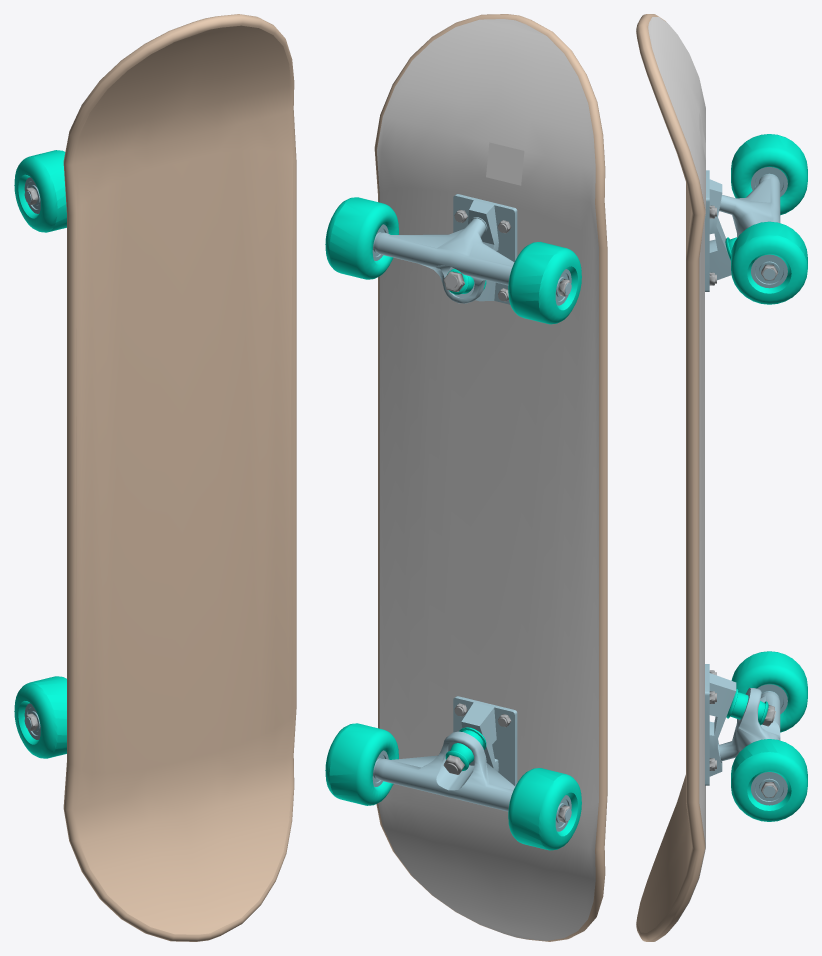
File: skateboard.gltf
3 renders of one model, left to right at view 1: azimuth 30°, elevation 25°; view 2: azimuth 150°, elevation 25°; view 3: azimuth 270°, elevation 25°, orthographic.
Visible parts, largest first — view 1: shape, rodas; view 2: deck, rodas, trucks, shape, parafusos, amortecedores, rolamentos; view 3: shape, rodas, trucks, deck, rolamentos, parafusos, amortecedores.
Boxes of the visible parts, x1,y1,x2,y2 form: shape: (63,14,296,941); rodas: (14,150,66,758); deck: (377,19,598,940); rodas: (325,197,581,850); trucks: (374,194,571,820); shape: (374,14,607,941); parafusos: (443,209,570,822); amortecedores: (445,269,486,770); rolamentos: (372,224,571,831); shape: (636,14,705,941); rodas: (731,134,807,821); trucks: (705,170,780,797); deck: (648,17,705,932); rolamentos: (751,167,787,805); parafusos: (709,205,777,797); amortecedores: (725,237,768,725).
Bounding box in the file's own units: 20.1 × 77.04 × 13.23.
